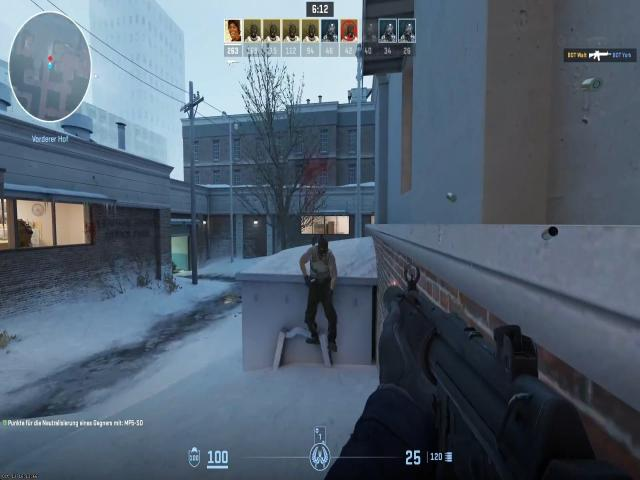CT: (18, 218, 33, 246)
CT-Head: (17, 219, 27, 228)
T: (301, 246, 341, 294)
T-Head: (312, 233, 332, 261)
